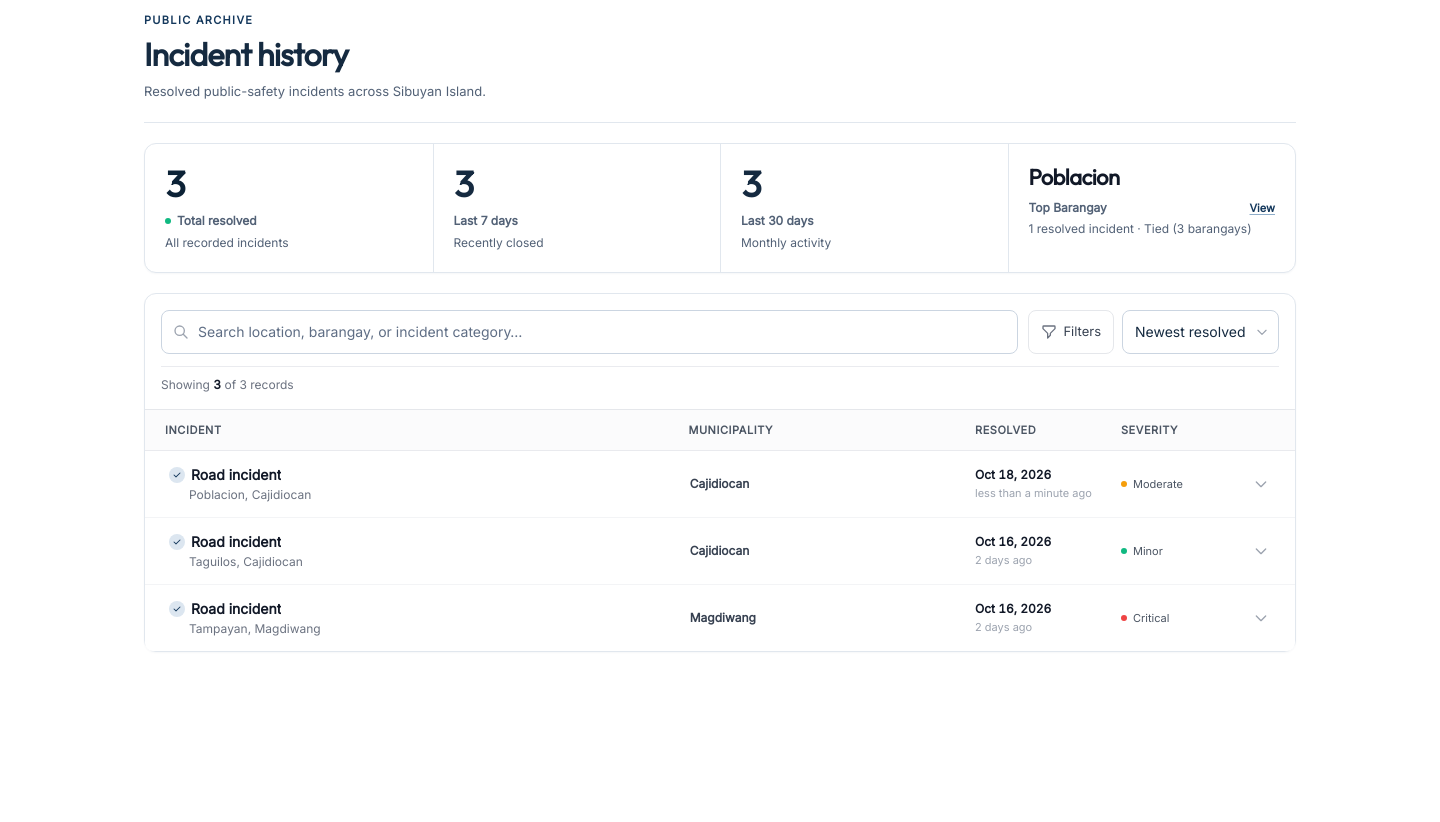
Scenario: AccidentHistoryPage features and filters › renders stat strip metrics including Top Barangay and expands record details on click
Expected: the heading "Incident history" is shown, [144,34,348,74]
Expected: the text "Public Archive" is shown, [144,13,253,27]
Step 1. Click the button with aria-label "Expand details" → (720, 484), box [145,451,1295,517]
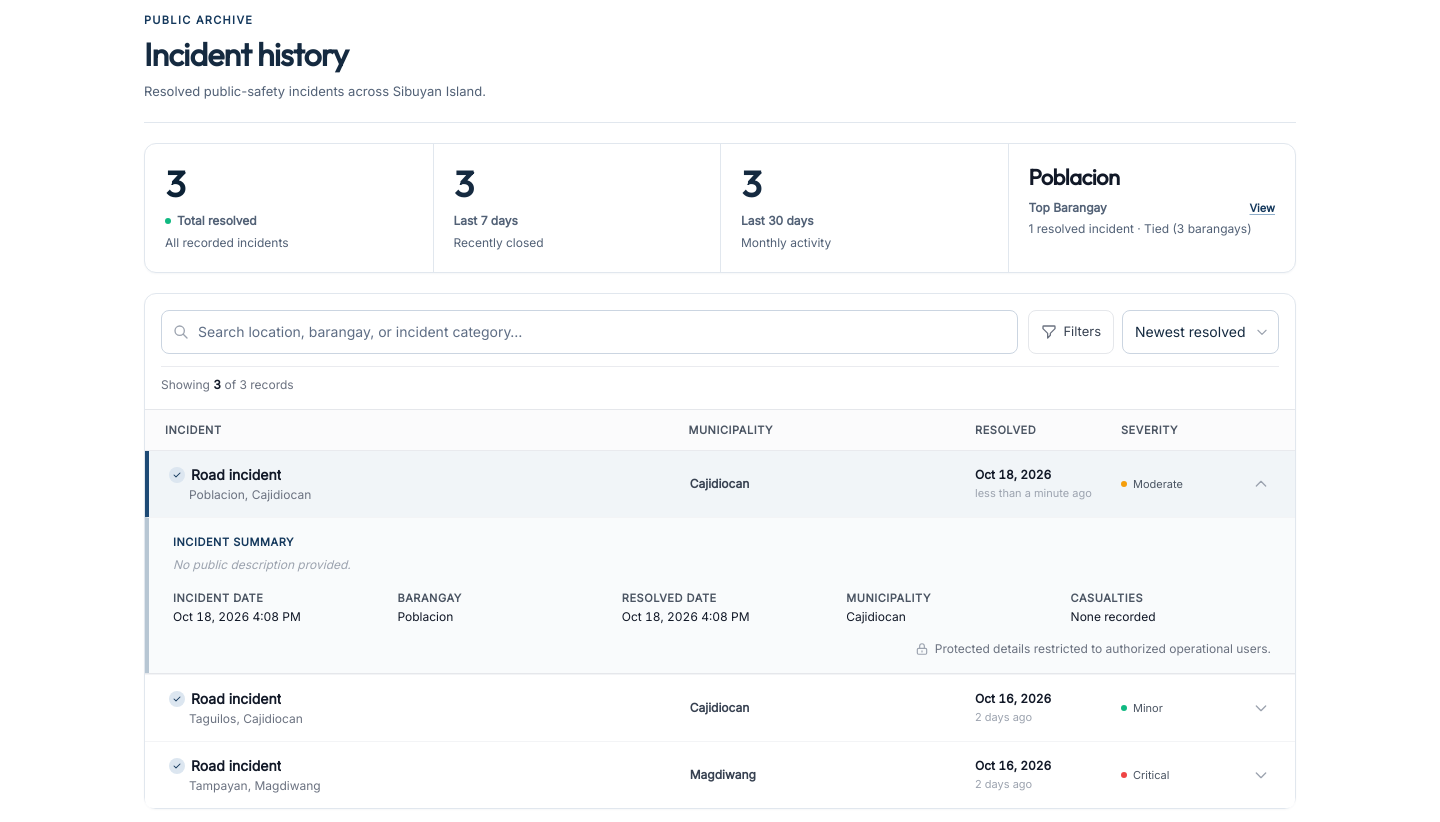
Now the button with aria-label "Collapse details" is expanded, box [145,451,1295,517]
Now the heading "Incident summary" is shown, box [173,535,294,549]
Now the text "Incident date" is shown, box [173,591,263,605]
